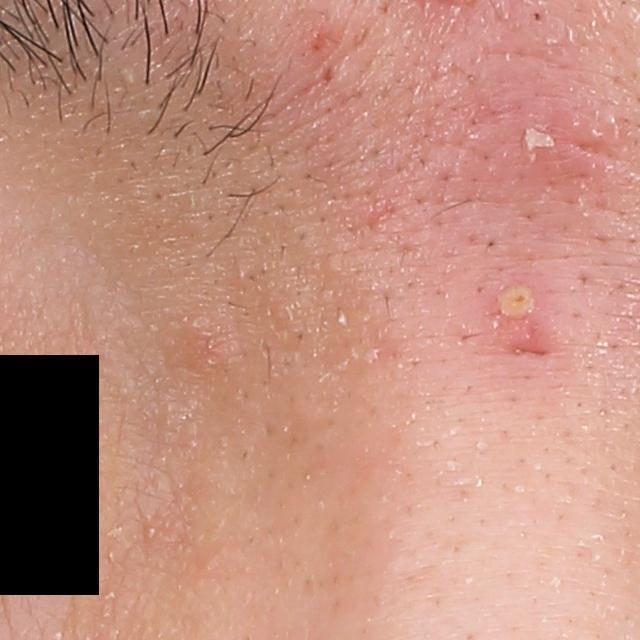comedo: (141, 522, 160, 540)
pustule: (489, 269, 540, 334)
